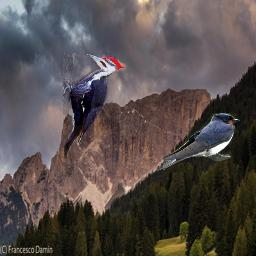Swallow: (152, 113, 240, 174)
Woodpecker: (63, 53, 129, 161)
